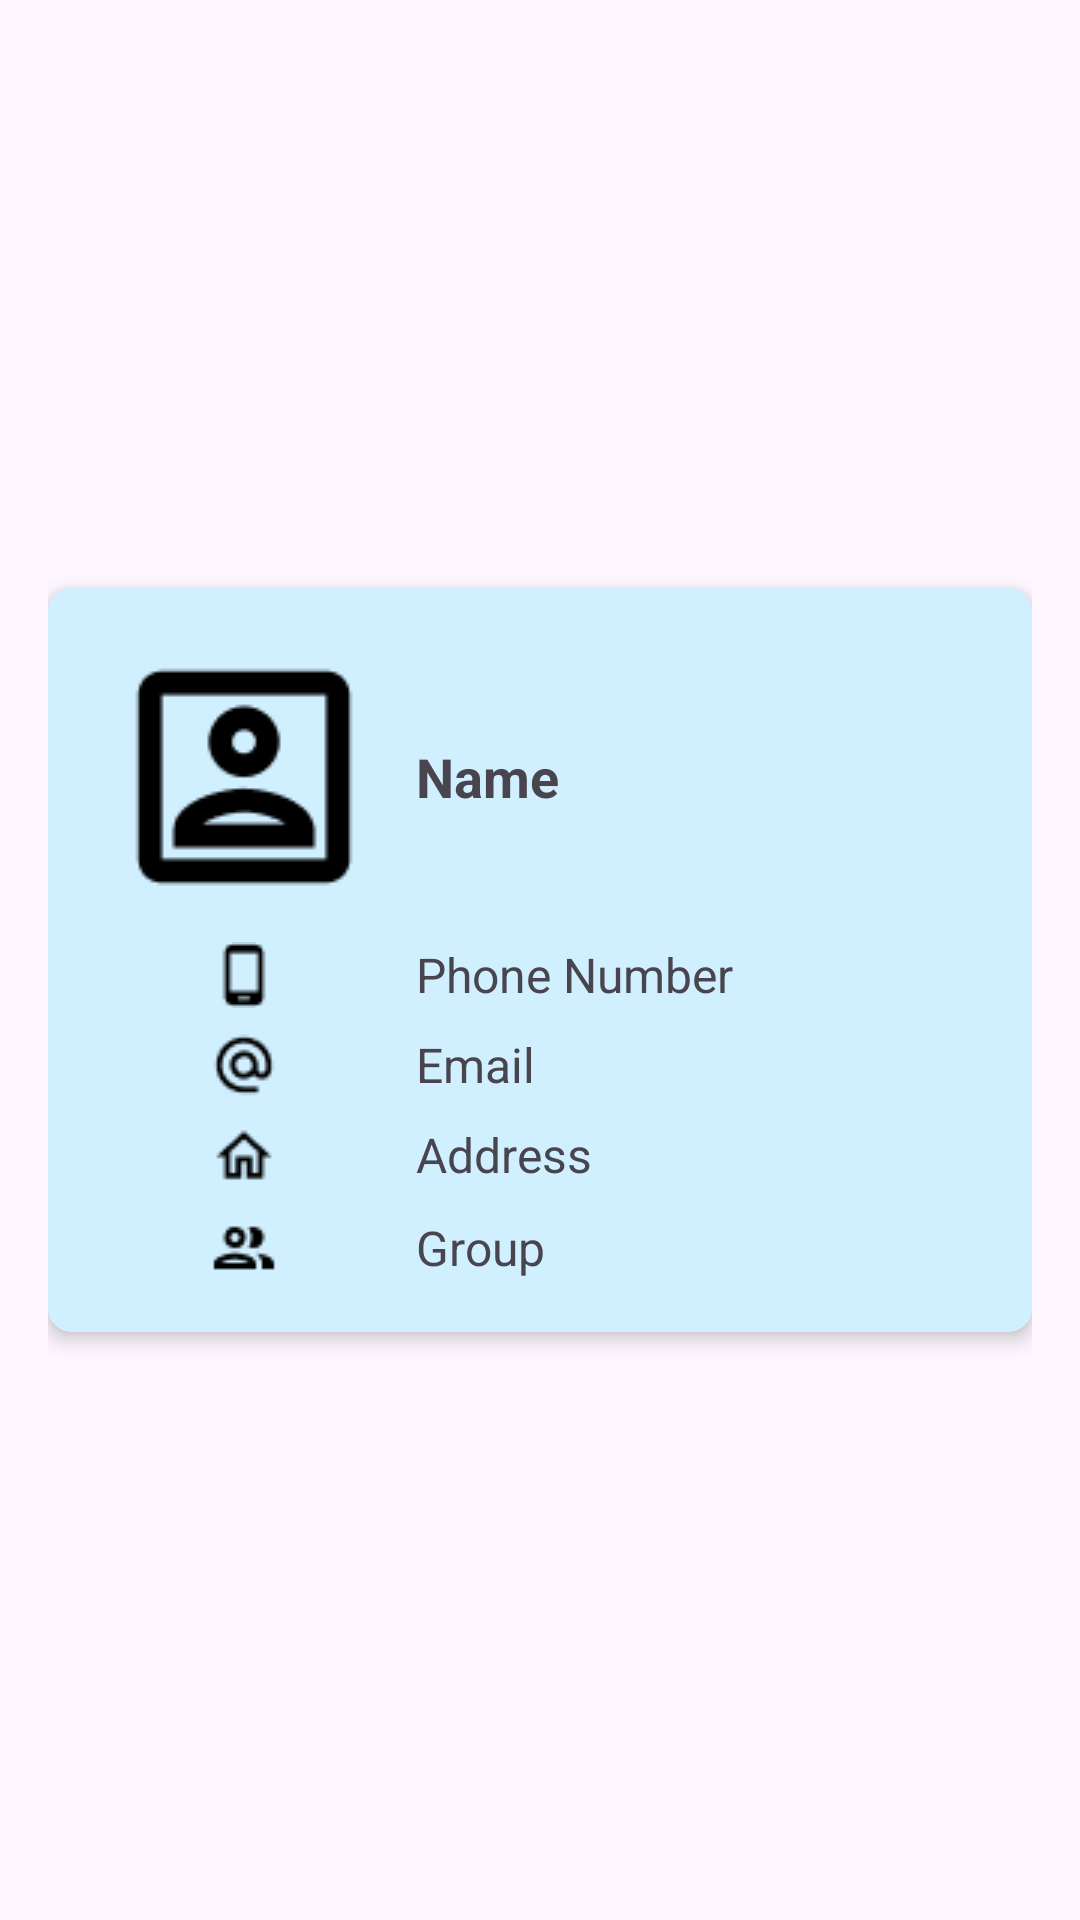

Screen size 1080*1920. Icon name, then its box in pixels as (x1, y1, x2, y2):
bahay: (216, 1130, 272, 1180)
portrait: (136, 669, 352, 885)
